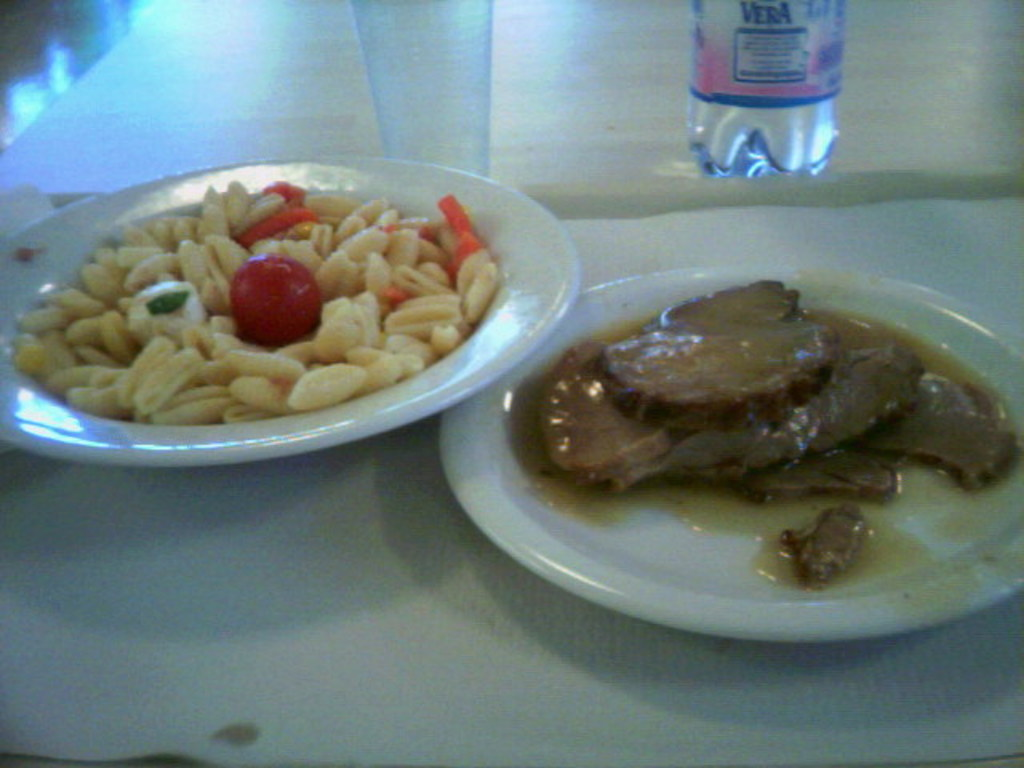pasta: (11, 171, 523, 429)
